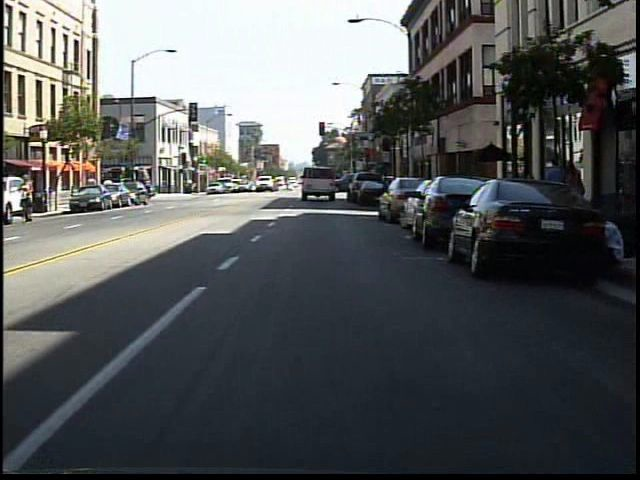person: (539, 153, 567, 231), (562, 157, 587, 227), (18, 167, 42, 229)
